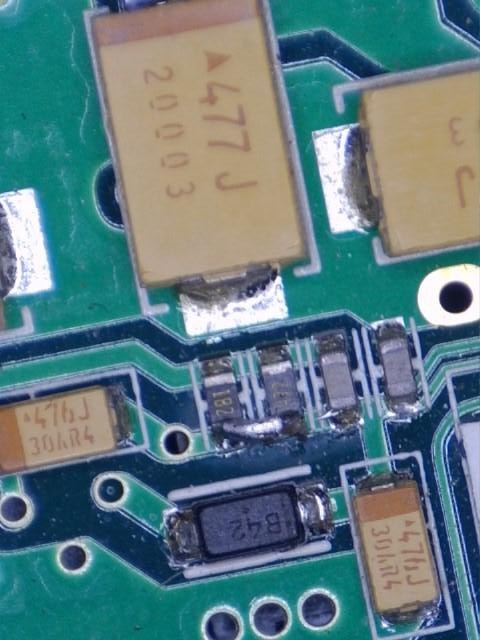pcb_defect: (212, 402, 307, 452)
